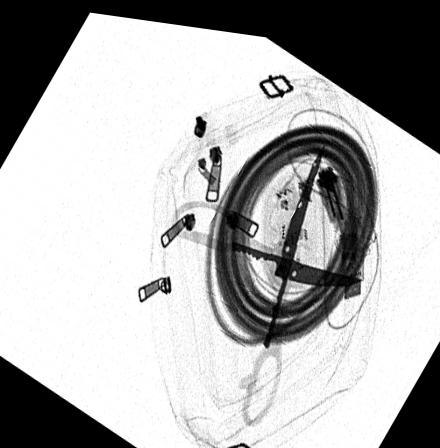Scissors: (167, 127, 369, 428)
